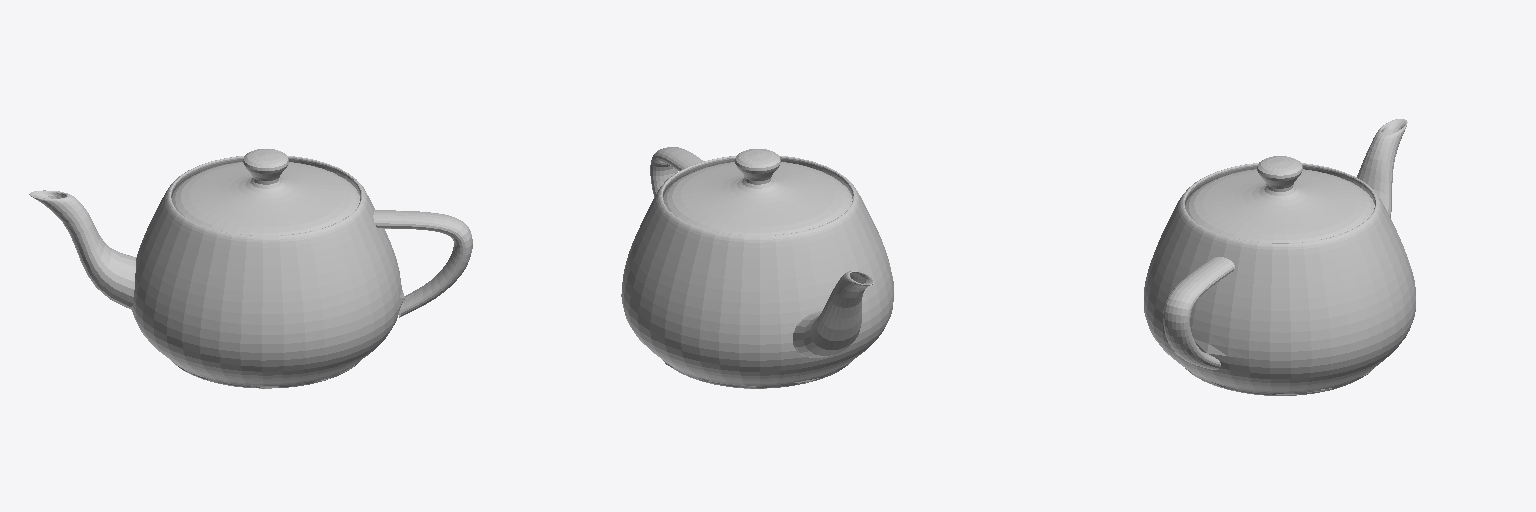
Rendered from teapot.obj.
3 renders of one model, left to right at view 1: azimuth 30°, elevation 25°; view 2: azimuth 150°, elevation 25°; view 3: azimuth 270°, elevation 25°, orthographic.
Parts seen in each view (by area): view 1: Teapot; view 2: Teapot; view 3: Teapot.
Part boxes in pixels (x1,y1,x2,y2): Teapot: (29, 149, 472, 388); Teapot: (621, 147, 893, 388); Teapot: (1144, 119, 1415, 395).
Bounding box in the file's own units: 5.49 × 3.14 × 3.91.